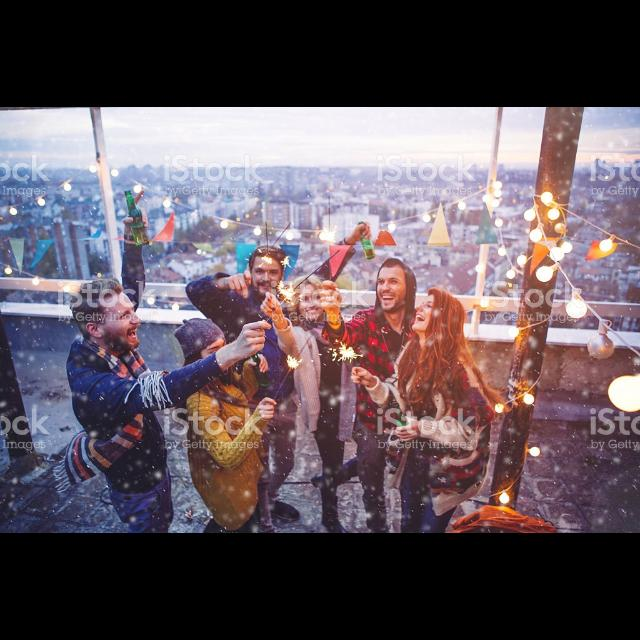head: (72, 280, 142, 350), (177, 321, 231, 383), (376, 262, 416, 314), (248, 247, 286, 300), (411, 294, 461, 332), (292, 275, 328, 323)
